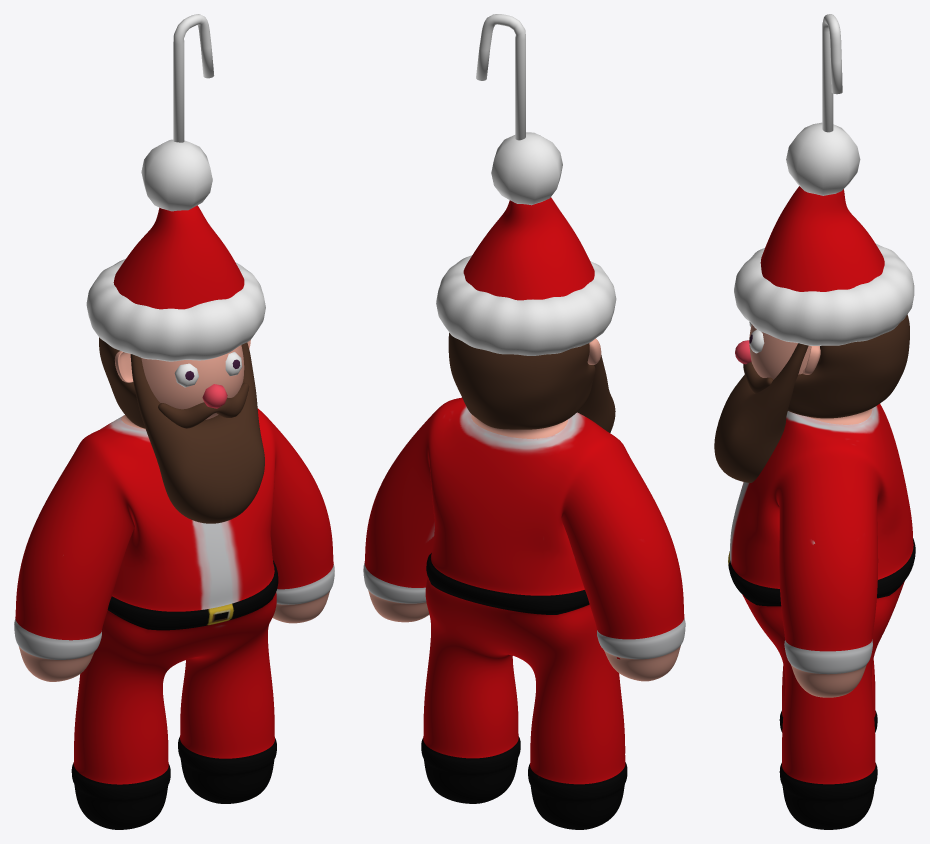
Rendered from Santa.fbx.
3 views of the same model, side by side, from view 1: azimuth 30°, elevation 25°; view 2: azimuth 150°, elevation 25°; view 3: azimuth 270°, elevation 25° (orthographic).
Visible parts, largest first — view 1: SantaDecor2, Vert.002, Circle, Cube, Sphere.002, SantaDecor.001, Vert.001, Vert.003, Sphere.001; view 2: SantaDecor2, Circle, Vert.003, Cube, Sphere.002, SantaDecor.001, Vert.002; view 3: SantaDecor2, Circle, Cube, Vert.003, Vert.002, Sphere.002, SantaDecor.001, Vert.001.
Boxes of the visible parts, x1,y1,x2,y2 form: SantaDecor2: (14, 345, 334, 829); Vert.002: (130, 342, 264, 523); Circle: (86, 259, 265, 361); Cube: (113, 205, 244, 309); Sphere.002: (141, 139, 212, 211); SantaDecor.001: (173, 14, 214, 142); Vert.001: (158, 382, 249, 428); Vert.003: (99, 337, 145, 428); Sphere.001: (174, 352, 242, 387); SantaDecor2: (363, 397, 685, 829); Circle: (436, 255, 616, 355); Vert.003: (448, 333, 595, 429); Cube: (463, 197, 594, 300); Sphere.002: (491, 132, 562, 205); SantaDecor.001: (476, 14, 525, 140); Vert.002: (577, 355, 615, 432); SantaDecor2: (728, 324, 915, 829); Circle: (734, 243, 914, 345); Cube: (760, 186, 884, 291); Vert.003: (788, 314, 909, 418); Vert.002: (714, 343, 808, 482); Sphere.002: (786, 122, 860, 195); SantaDecor.001: (822, 14, 842, 132); Vert.001: (743, 362, 773, 393).
Bounding box in the file's own units: 0.205 × 0.5021 × 0.116.
